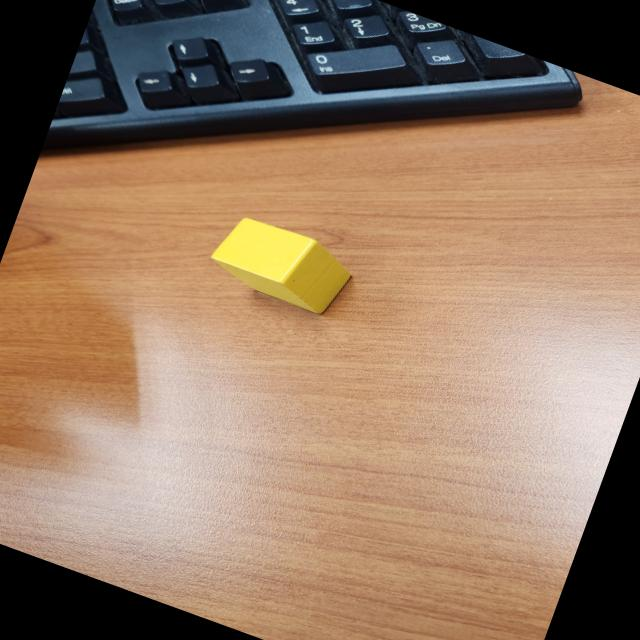yellow: (203, 208, 360, 322)
